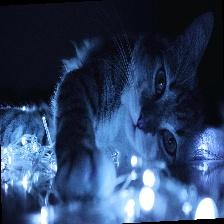kedo: (58, 11, 216, 195)
